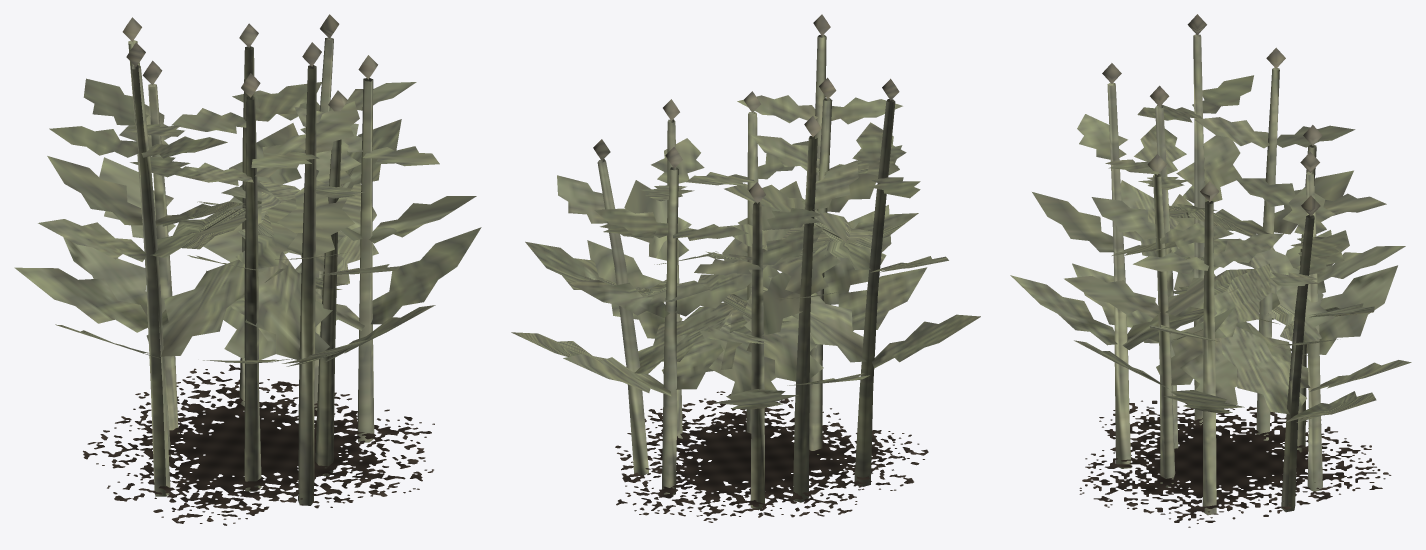
The model's file is bush_nettle.glb.
The picture shows the model from 3 angles, left to right: view 1: azimuth 30°, elevation 25°; view 2: azimuth 150°, elevation 25°; view 3: azimuth 270°, elevation 25°; orthographic projection. The views are drawn at different scales.
Parts seen in each view (by area): view 1: bush_nettle; view 2: bush_nettle; view 3: bush_nettle.
Boxes of the visible parts, x1,y1,x2,y2 form: bush_nettle: (14, 14, 481, 525); bush_nettle: (511, 14, 980, 522); bush_nettle: (1010, 14, 1411, 527).
Bounding box in the file's own units: 0.8556 × 0.8762 × 0.7913.
Materials: 2 (2 with a texture image).
